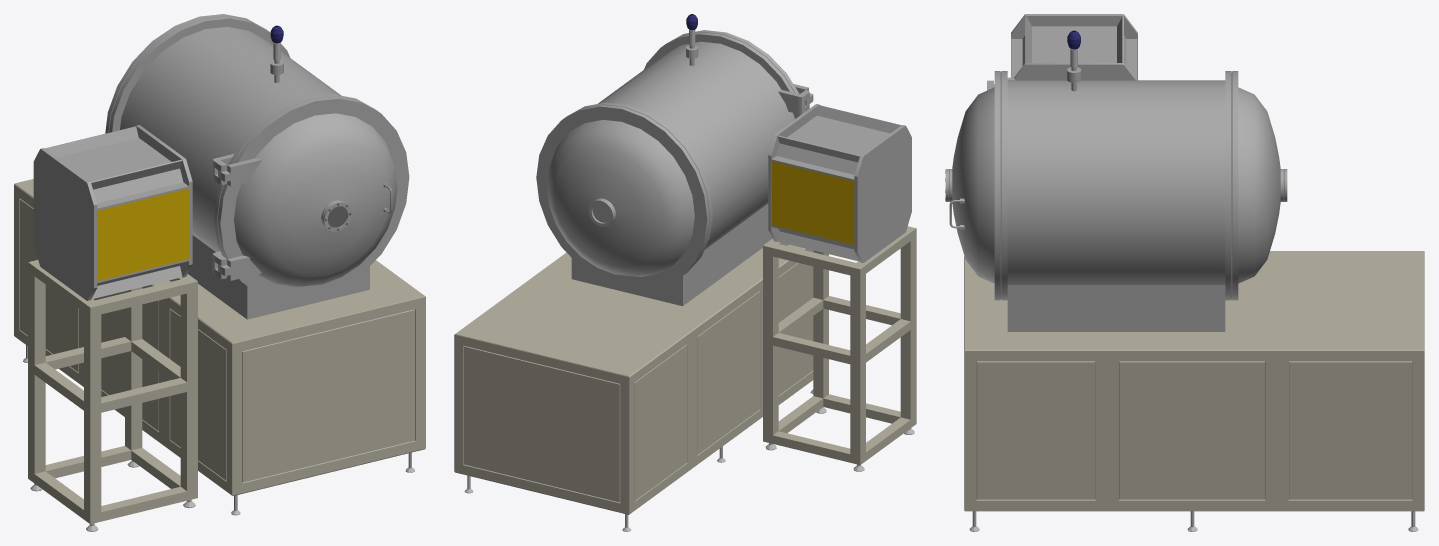
The model's file is shiyanlou_A03_shebei_02_low.fbx.
3 renders of one model, left to right at view 1: azimuth 30°, elevation 25°; view 2: azimuth 150°, elevation 25°; view 3: azimuth 270°, elevation 25°, orthographic. The views are drawn at different scales.
Parts seen in each view (by area): view 1: A03_shebei_02; view 2: A03_shebei_02; view 3: A03_shebei_02.
Boxes of the visible parts, x1,y1,x2,y2 form: A03_shebei_02: (14, 14, 425, 531); A03_shebei_02: (454, 14, 916, 531); A03_shebei_02: (945, 14, 1424, 531).
Size of the model in its own units: 199 by 260 by 248.
